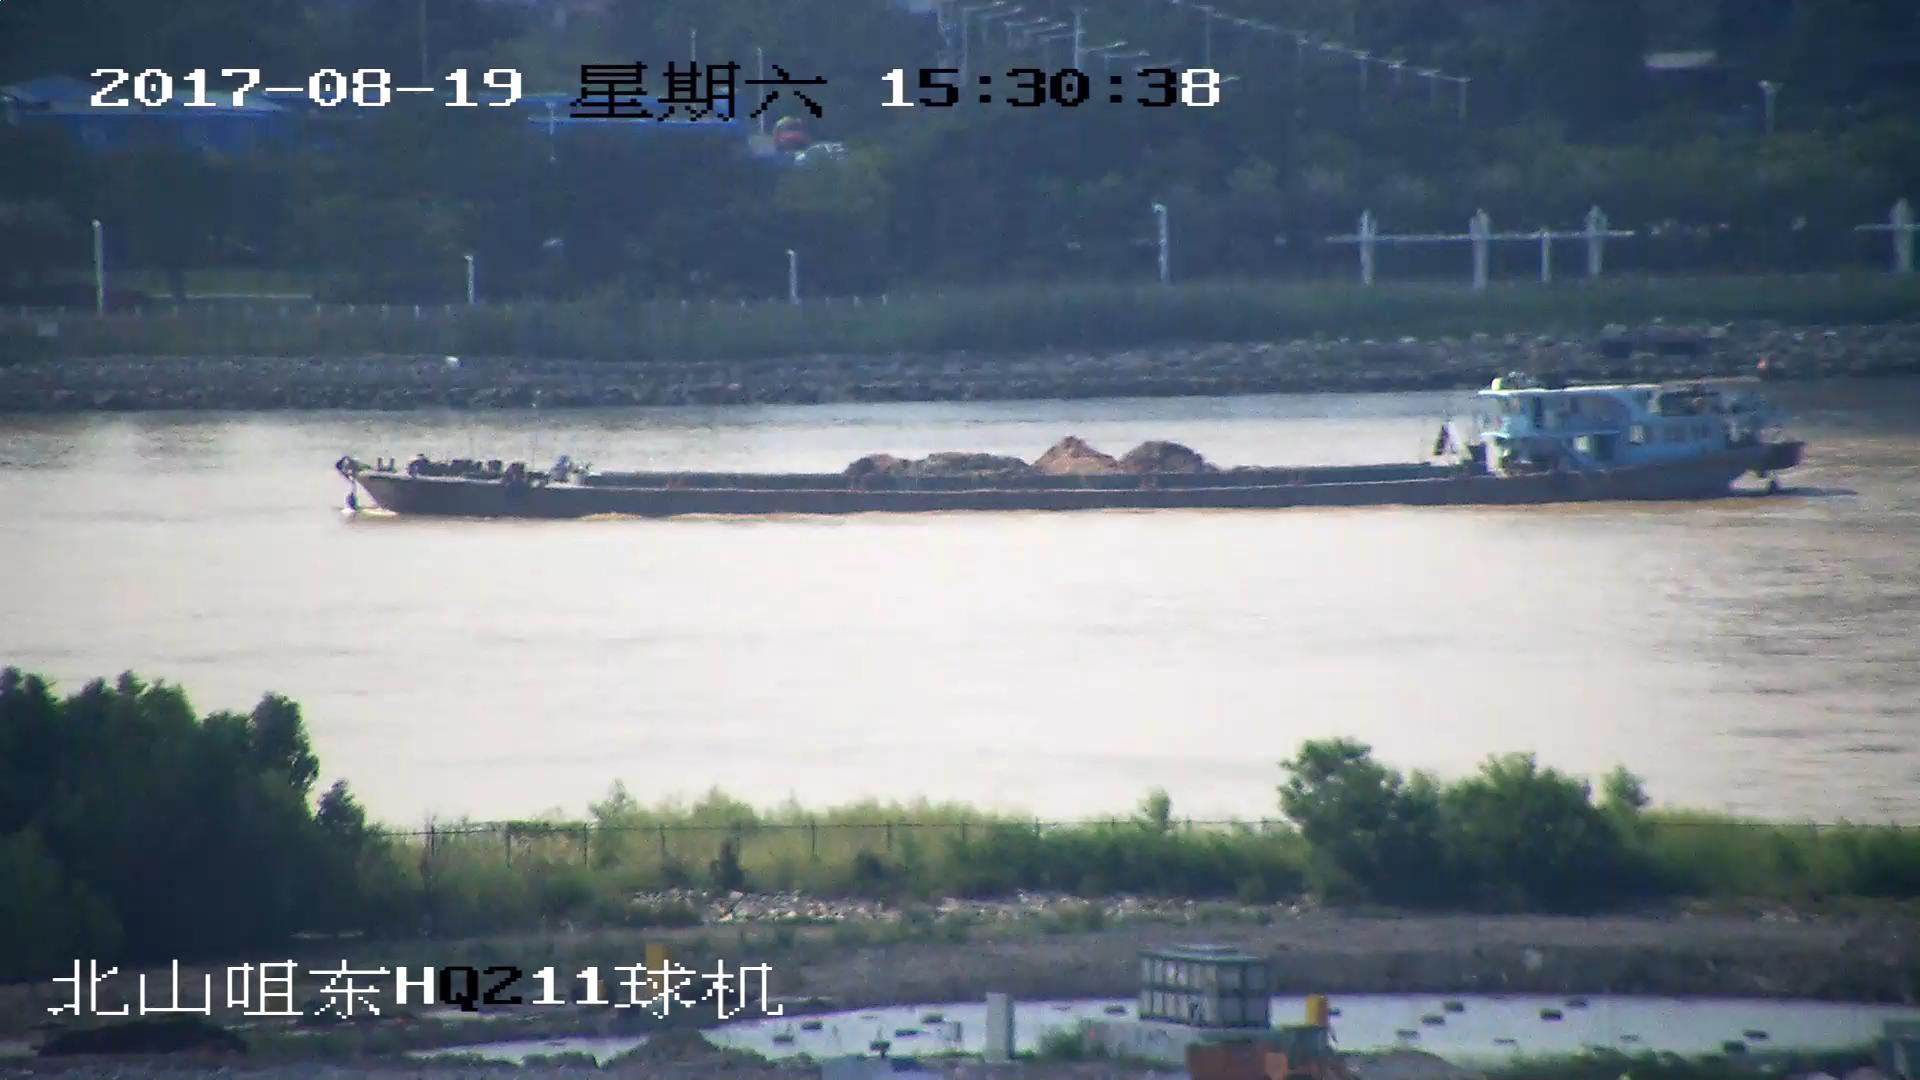Ship: (334, 381, 1805, 524)
